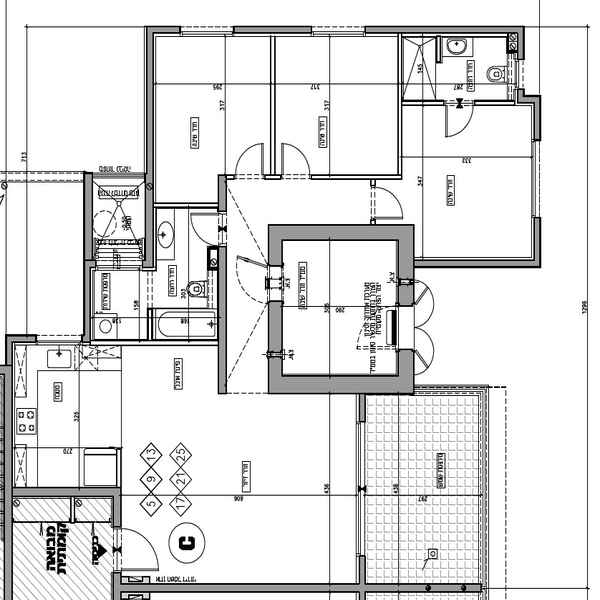door: (115, 526, 165, 577), (230, 126, 270, 183), (371, 181, 407, 224), (280, 135, 311, 180), (442, 100, 476, 140), (189, 208, 221, 244)
room: (113, 388, 371, 591), (2, 328, 226, 497), (265, 216, 417, 394), (140, 32, 277, 204), (405, 95, 542, 260), (273, 28, 407, 180)
wall: (141, 28, 157, 269), (114, 579, 366, 594), (271, 369, 419, 394), (269, 223, 422, 244), (212, 242, 232, 395), (78, 168, 95, 344), (367, 25, 530, 41), (367, 578, 485, 600), (7, 483, 124, 504), (2, 334, 16, 486), (415, 254, 547, 270), (1, 495, 20, 600), (394, 222, 417, 308), (264, 294, 287, 365), (226, 27, 316, 38), (213, 162, 227, 214), (532, 215, 547, 261), (531, 98, 547, 141)
window: (527, 138, 546, 214), (318, 24, 369, 41), (180, 24, 236, 37), (39, 333, 82, 347)
